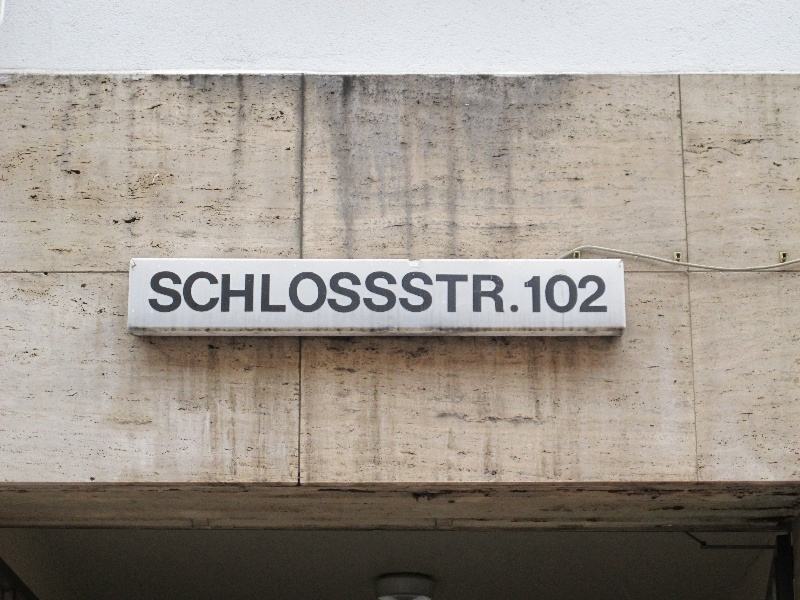text: (593, 271, 609, 314), (161, 271, 176, 314), (177, 271, 192, 314), (193, 271, 208, 314), (209, 271, 224, 314), (225, 271, 240, 314), (241, 271, 256, 314), (257, 271, 272, 314), (273, 271, 288, 314), (289, 271, 304, 314), (305, 271, 320, 314), (321, 271, 336, 314), (337, 271, 352, 314), (353, 271, 368, 314), (369, 271, 384, 314), (385, 271, 400, 314), (401, 271, 416, 314), (417, 271, 432, 314), (433, 271, 448, 314), (449, 271, 464, 314), (465, 271, 480, 314), (481, 271, 496, 314), (497, 271, 512, 314), (513, 271, 528, 314), (529, 271, 544, 314), (545, 271, 560, 314), (561, 271, 576, 314), (577, 271, 592, 314), (151, 271, 160, 314)
